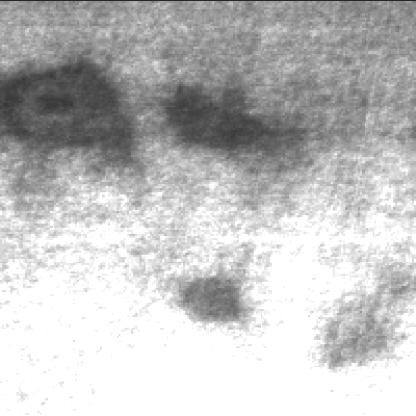patches: (0, 56, 129, 150), (160, 84, 289, 152), (175, 274, 243, 322)
